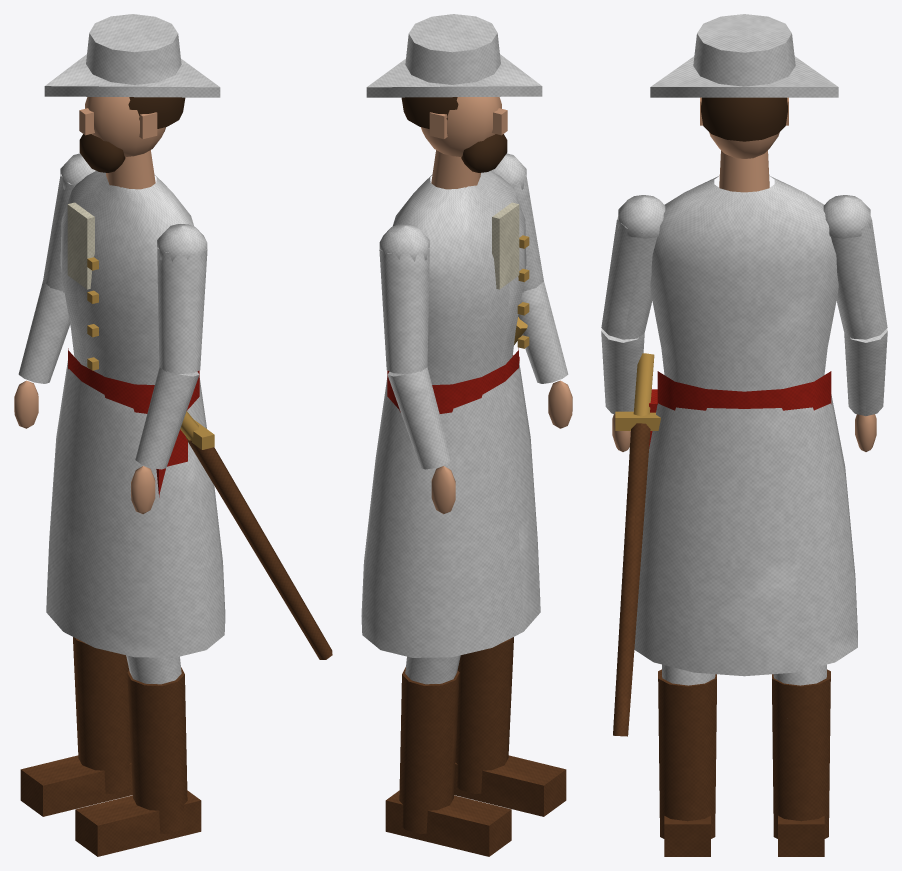
File: SM_Art_Figure_draven.gltf
The picture shows the model from 3 angles, left to right: view 1: azimuth 30°, elevation 25°; view 2: azimuth 150°, elevation 25°; view 3: azimuth 270°, elevation 25°; orthographic projection. The views are drawn at different scales.
Visible parts, largest first — view 1: SM_Art_Figure_draven; view 2: SM_Art_Figure_draven; view 3: SM_Art_Figure_draven.
Part boxes in pixels (<box>): SM_Art_Figure_draven: <box>14,14,332,856</box>; SM_Art_Figure_draven: <box>361,14,572,856</box>; SM_Art_Figure_draven: <box>601,14,887,856</box>.
Size of the model in its own units: 0.5867 by 1.91 by 0.6143.
Materials: 7 (4 with a texture image).
